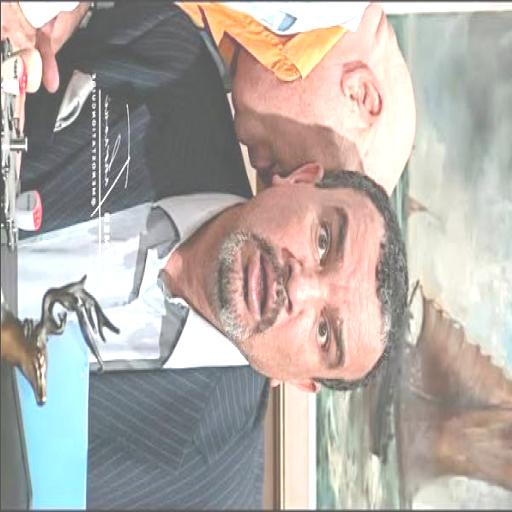sboui: (232, 6, 414, 193)
slimane: (212, 167, 406, 391)
